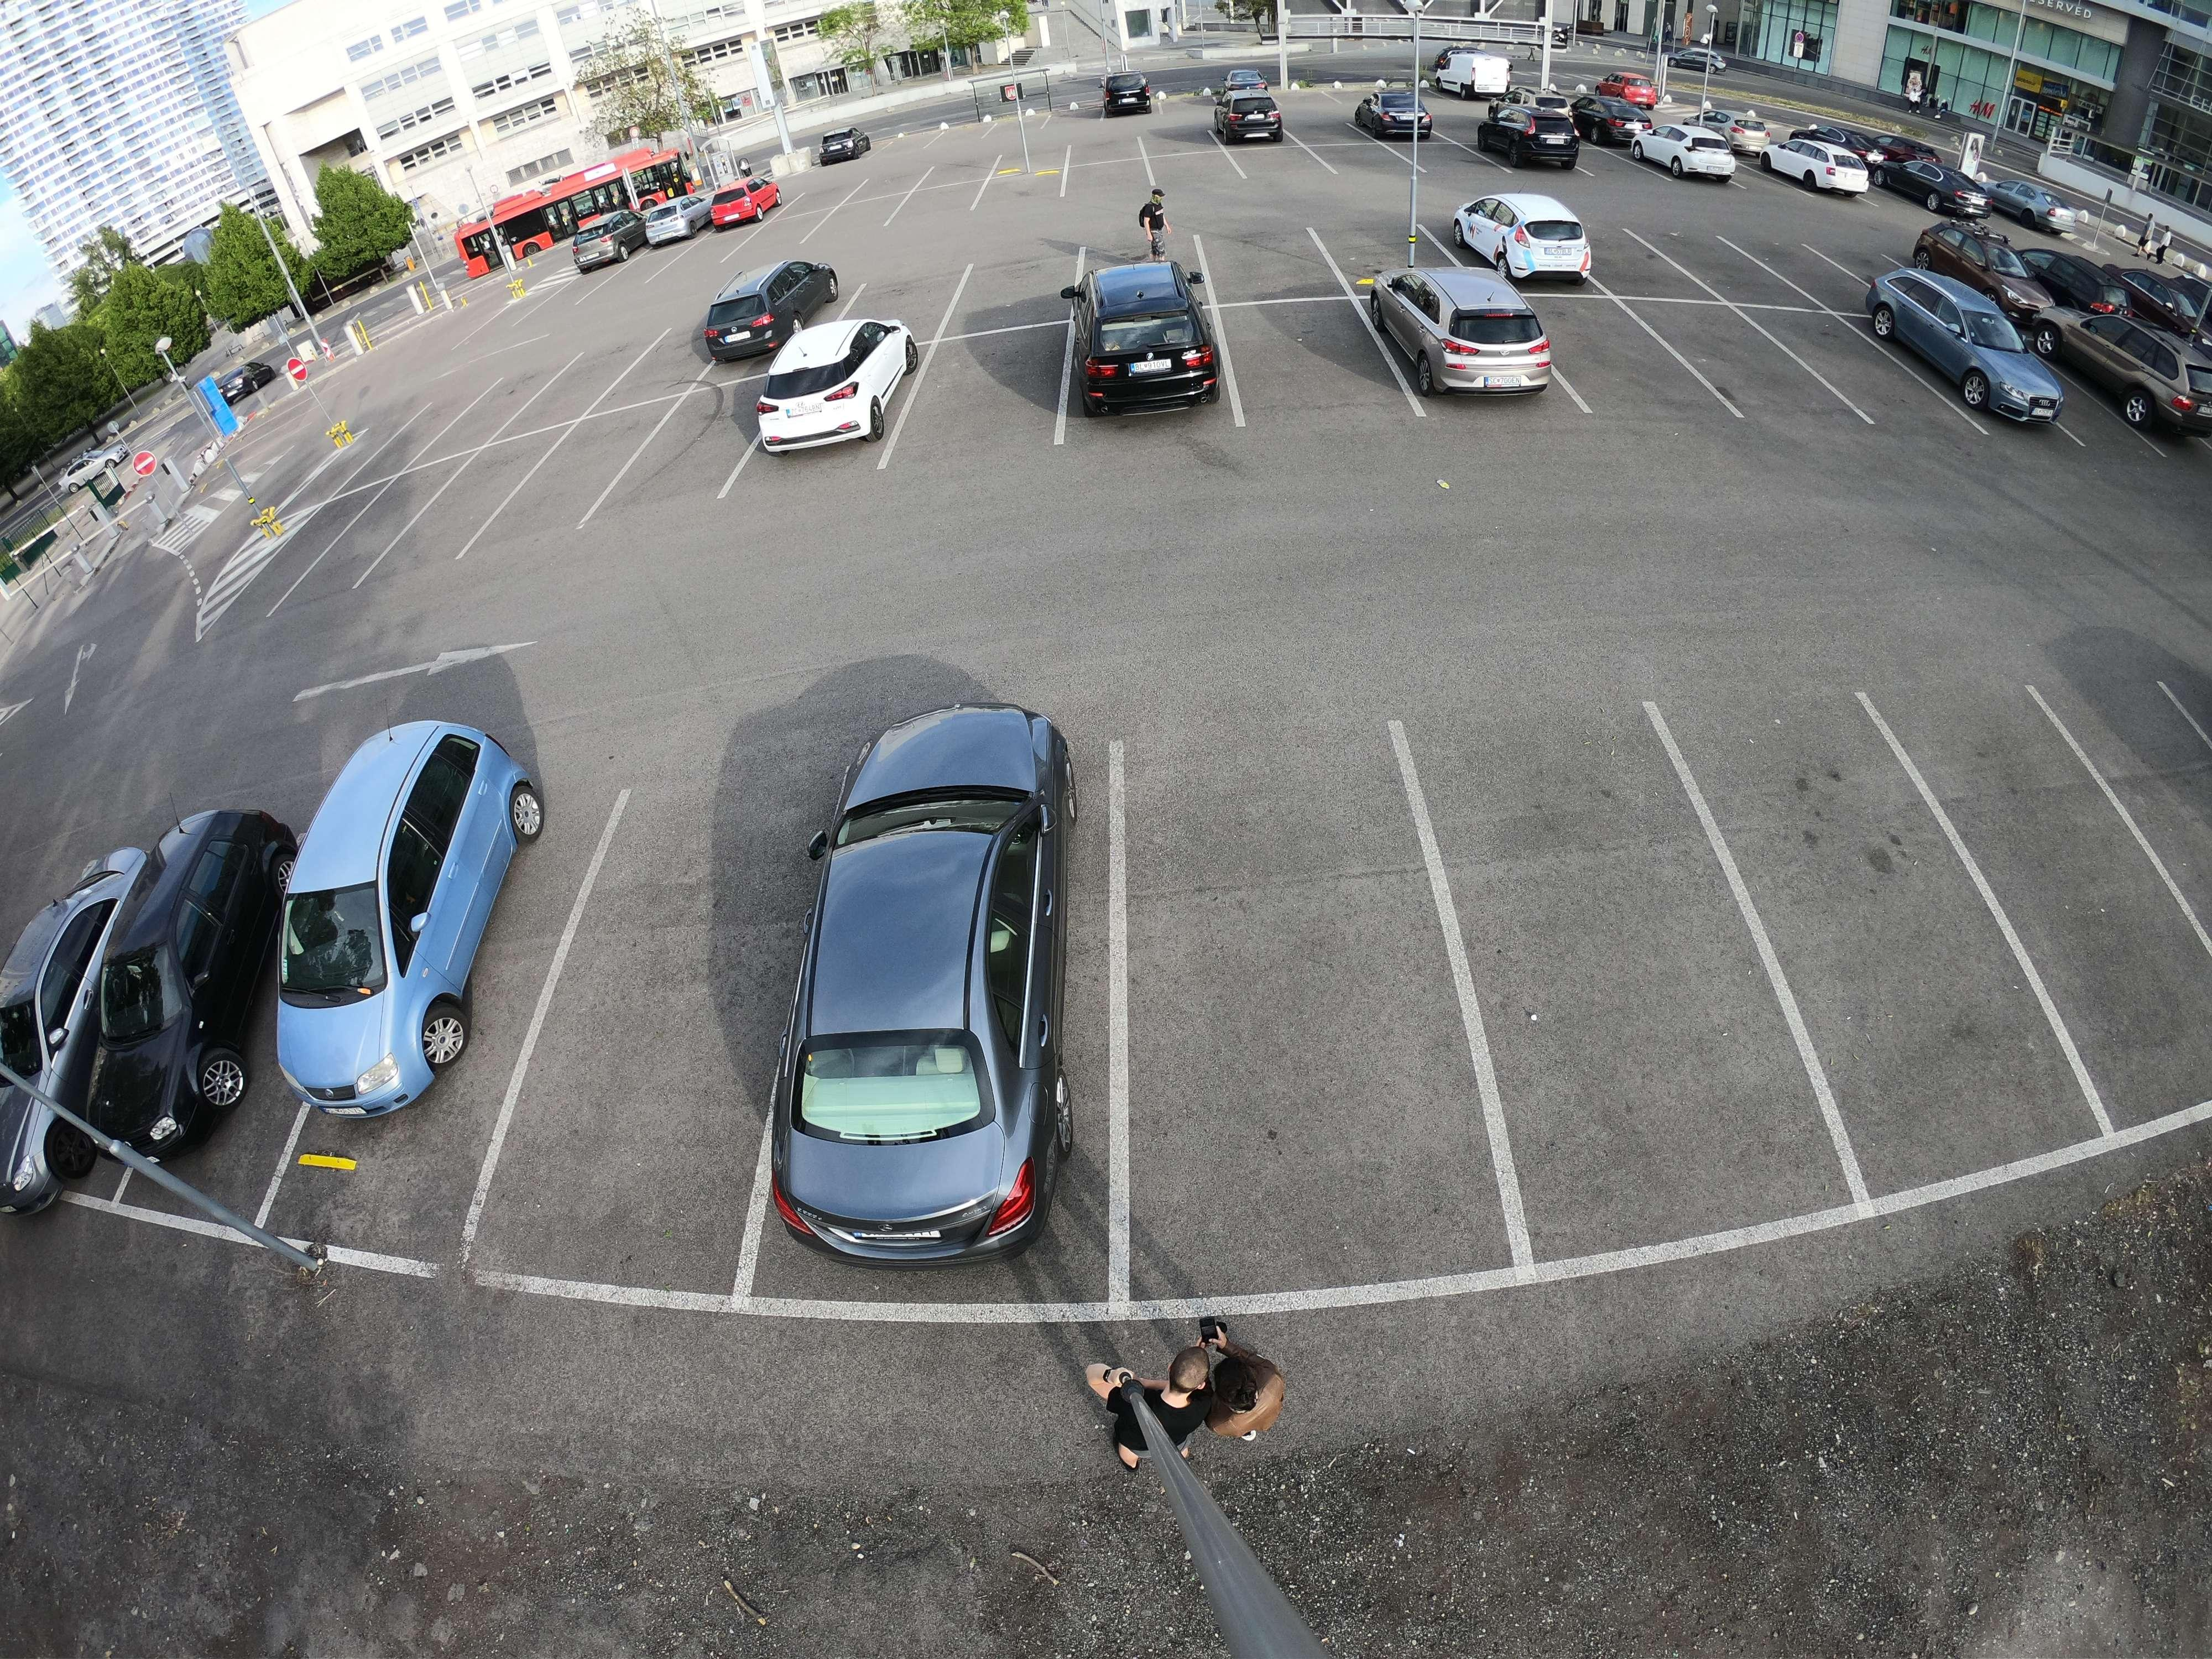empty: (758, 694, 1099, 1281), (242, 701, 550, 1133), (33, 821, 277, 1166), (1061, 246, 1233, 427), (744, 314, 927, 467), (1376, 267, 1568, 406), (1876, 268, 2054, 418), (697, 258, 834, 362), (1454, 186, 1592, 286), (1932, 230, 2055, 303), (2019, 242, 2121, 312), (1475, 105, 1576, 171), (1885, 150, 1986, 214), (1759, 139, 1865, 199), (1634, 122, 1735, 183), (1221, 78, 1292, 145), (707, 169, 782, 230), (1357, 84, 1430, 141), (643, 192, 714, 249), (577, 214, 639, 277), (1432, 51, 1501, 99), (805, 120, 869, 169), (1581, 106, 1642, 152), (1096, 64, 1146, 115), (1702, 103, 1764, 139)
occupied: (1137, 882, 1460, 1190), (543, 880, 768, 1222), (1505, 887, 1756, 1108), (1796, 866, 1989, 1044), (2010, 812, 2160, 951), (1247, 336, 1362, 408), (948, 357, 1042, 436), (1569, 321, 1655, 382), (529, 451, 615, 509), (1233, 237, 1318, 288), (667, 415, 742, 472), (430, 481, 503, 538), (1696, 326, 1773, 376), (1233, 141, 1322, 185), (644, 329, 711, 387), (986, 256, 1064, 303), (1808, 333, 1883, 382), (340, 523, 401, 579), (867, 270, 944, 314), (1345, 223, 1421, 265), (263, 556, 310, 608), (1076, 152, 1139, 190), (550, 359, 597, 410), (1000, 160, 1059, 195), (467, 392, 512, 437), (1604, 244, 1656, 282), (920, 173, 975, 207), (1700, 256, 1759, 286), (1163, 139, 1216, 171), (836, 199, 888, 228), (1432, 125, 1477, 157), (1320, 136, 1376, 160)
